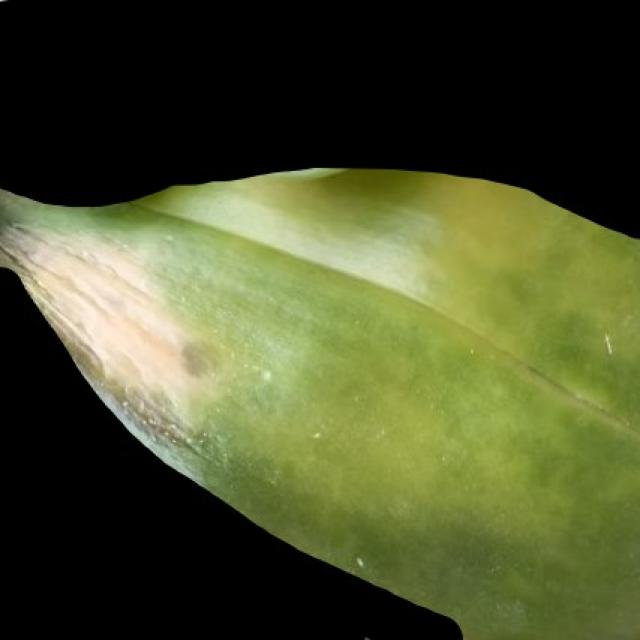mite: (339, 541, 378, 582), (303, 420, 328, 447), (346, 549, 369, 576), (598, 328, 615, 358), (351, 553, 366, 571), (307, 427, 324, 442)
spots: (0, 162, 639, 639)
